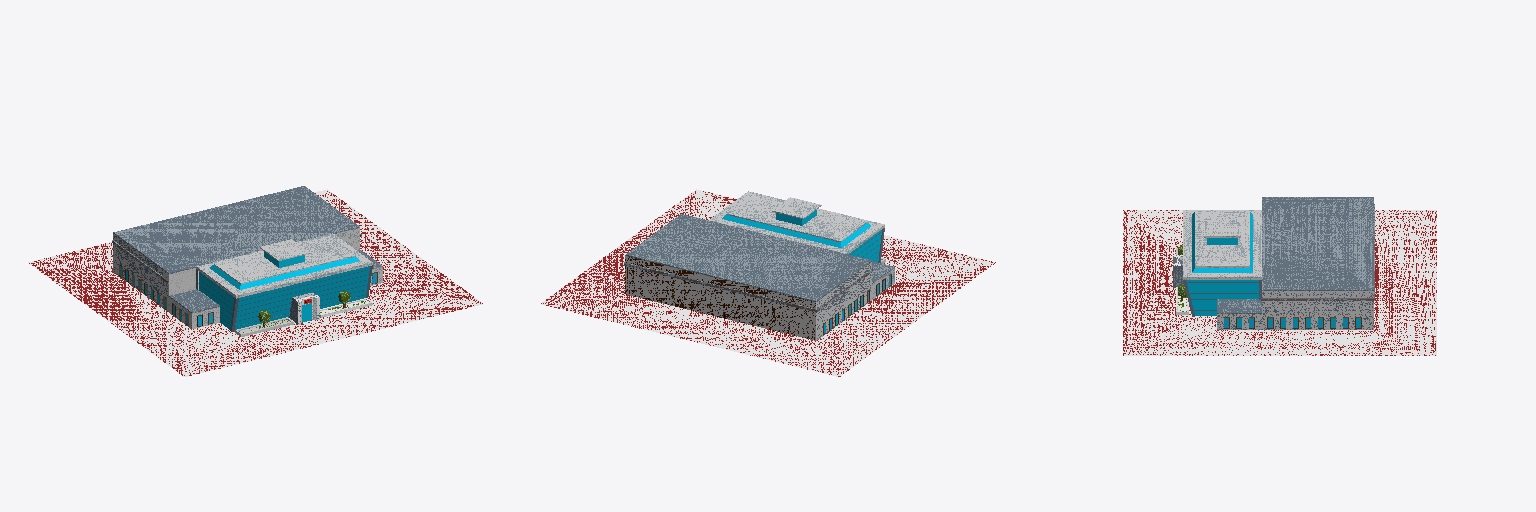
3 views of the same model, side by side, from view 1: azimuth 30°, elevation 25°; view 2: azimuth 150°, elevation 25°; view 3: azimuth 270°, elevation 25° (orthographic).
Parts seen in each view (by area): view 1: Mesh85 Model; view 2: Mesh85 Model; view 3: Mesh85 Model.
Part boxes in pixels (x1,y1,x2,y2): Mesh85 Model: (28,186,482,376); Mesh85 Model: (541,189,995,376); Mesh85 Model: (1123,197,1436,355).
Size of the model in its own units: 55.15 by 9.6 by 50.
Materials: 17 (5 with a texture image).